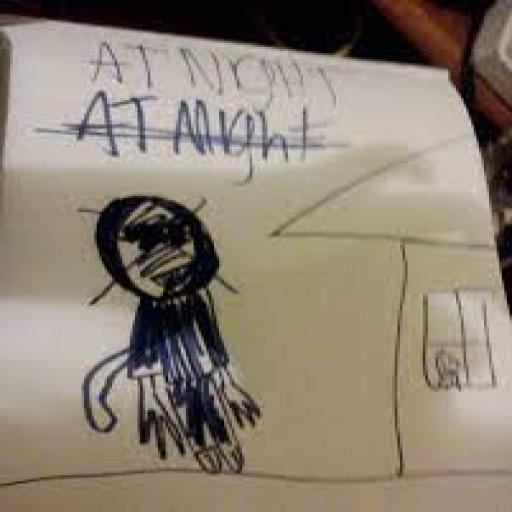person: (60, 187, 282, 488)
